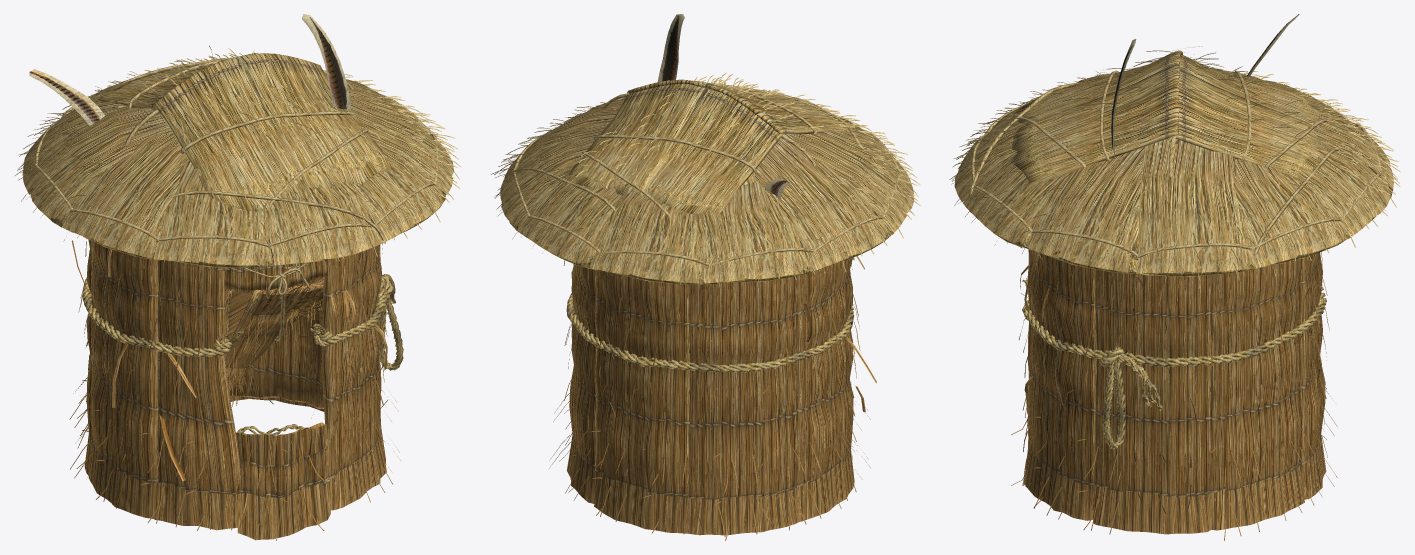
Rendered from haystack.glb.
3 views of the same model, side by side, from view 1: azimuth 30°, elevation 25°; view 2: azimuth 150°, elevation 25°; view 3: azimuth 270°, elevation 25° (orthographic). The views are drawn at different scales.
Parts seen in each view (by area): view 1: Nojeokgari_LOD0_pasted__lambert4_0.1200, Nojeokgari_LOD0_pasted__lambert4_0.1410, Nojeokgari_LOD0_pasted__lambert3_0.1710, Nojeokgari_LOD0_pasted__lambert4_0.084, Nojeokgari_LOD0_pasted__lambert3_0.1700, Nojeokgari_LOD0_pasted__lambert3_0.1720, Nojeokgari_LOD0_pasted__lambert4_0.1702, Nojeokgari_LOD0_pasted__lambert3_0.1704, Nojeokgari_LOD0_pasted__lambert3_0.1722, Nojeokgari_LOD0_pasted__lambert3_0.1724, Nojeokgari_LOD0_pasted__lambert3_0.1723, Nojeokgari_LOD0_pasted__lambert3_0.1721 (+32 smaller); view 2: Nojeokgari_LOD0_pasted__lambert4_0.1199, Nojeokgari_LOD0_pasted__lambert4_0.570, Nojeokgari_LOD0_pasted__lambert4_0.1410, Nojeokgari_LOD0_pasted__lambert3_0.1718, Nojeokgari_LOD0_pasted__lambert3_0.1702, Nojeokgari_LOD0_pasted__lambert3_0.1712, Nojeokgari_LOD0_pasted__lambert3_0.1704, Nojeokgari_LOD0_pasted__lambert4_0.1701, Nojeokgari_LOD0_pasted__lambert3_0.1714, Nojeokgari_LOD0_pasted__lambert4_0.095, Nojeokgari_LOD0_pasted__lambert3_0.1705, Nojeokgari_LOD0_pasted__lambert4_0.086 (+17 smaller); view 3: Nojeokgari_LOD0_pasted__lambert4_0.1139, Nojeokgari_LOD0_pasted__lambert4_0.1701, Nojeokgari_LOD0_pasted__lambert4_0.084, Nojeokgari_LOD0_pasted__lambert3_0.1700, Nojeokgari_LOD0_pasted__lambert3_0.1702, Nojeokgari_LOD0_pasted__lambert3_0.1698, Nojeokgari_LOD0_pasted__lambert3_0.1708, Nojeokgari_LOD0_pasted__lambert3_0.1699, Nojeokgari_LOD0_pasted__lambert4_0.1142, Nojeokgari_LOD0_pasted__lambert4_0.570, Nojeokgari_LOD0_pasted__lambert3_0.1706, Nojeokgari_LOD0_pasted__lambert4_0.087 (+17 smaller).
Part boxes in pixels (<box>): Nojeokgari_LOD0_pasted__lambert4_0.1200: <box>157,260,240,494</box>; Nojeokgari_LOD0_pasted__lambert4_0.1410: <box>90,241,158,483</box>; Nojeokgari_LOD0_pasted__lambert3_0.1710: <box>154,57,301,211</box>; Nojeokgari_LOD0_pasted__lambert4_0.084: <box>321,244,381,479</box>; Nojeokgari_LOD0_pasted__lambert3_0.1700: <box>237,53,391,189</box>; Nojeokgari_LOD0_pasted__lambert3_0.1720: <box>90,138,189,258</box>; Nojeokgari_LOD0_pasted__lambert4_0.1702: <box>229,300,323,407</box>; Nojeokgari_LOD0_pasted__lambert3_0.1704: <box>30,114,173,225</box>; Nojeokgari_LOD0_pasted__lambert3_0.1722: <box>198,195,272,265</box>; Nojeokgari_LOD0_pasted__lambert3_0.1724: <box>296,179,383,259</box>; Nojeokgari_LOD0_pasted__lambert3_0.1723: <box>153,161,208,262</box>; Nojeokgari_LOD0_pasted__lambert3_0.1721: <box>59,133,175,239</box>; Nojeokgari_LOD0_pasted__lambert4_0.1199: <box>688,276,798,499</box>; Nojeokgari_LOD0_pasted__lambert4_0.570: <box>595,270,689,497</box>; Nojeokgari_LOD0_pasted__lambert4_0.1410: <box>796,258,853,486</box>; Nojeokgari_LOD0_pasted__lambert3_0.1718: <box>643,88,782,214</box>; Nojeokgari_LOD0_pasted__lambert3_0.1702: <box>568,84,704,195</box>; Nojeokgari_LOD0_pasted__lambert3_0.1712: <box>732,180,811,279</box>; Nojeokgari_LOD0_pasted__lambert3_0.1704: <box>770,133,887,256</box>; Nojeokgari_LOD0_pasted__lambert4_0.1701: <box>569,264,596,469</box>; Nojeokgari_LOD0_pasted__lambert3_0.1714: <box>628,199,700,283</box>; Nojeokgari_LOD0_pasted__lambert4_0.095: <box>688,487,799,535</box>; Nojeokgari_LOD0_pasted__lambert3_0.1705: <box>750,152,848,270</box>; Nojeokgari_LOD0_pasted__lambert4_0.086: <box>594,470,688,533</box>; Nojeokgari_LOD0_pasted__lambert4_0.1139: <box>1094,269,1210,496</box>; Nojeokgari_LOD0_pasted__lambert4_0.1701: <box>1210,258,1302,492</box>; Nojeokgari_LOD0_pasted__lambert4_0.084: <box>1027,249,1096,510</box>; Nojeokgari_LOD0_pasted__lambert3_0.1700: <box>1010,63,1179,182</box>; Nojeokgari_LOD0_pasted__lambert3_0.1702: <box>1175,68,1321,177</box>; Nojeokgari_LOD0_pasted__lambert3_0.1698: <box>1182,142,1255,272</box>; Nojeokgari_LOD0_pasted__lambert3_0.1708: <box>1059,137,1179,272</box>; Nojeokgari_LOD0_pasted__lambert3_0.1699: <box>1136,137,1186,273</box>; Nojeokgari_LOD0_pasted__lambert4_0.1142: <box>1093,485,1211,534</box>; Nojeokgari_LOD0_pasted__lambert4_0.570: <box>1300,252,1325,464</box>; Nojeokgari_LOD0_pasted__lambert3_0.1706: <box>1246,160,1346,255</box>; Nojeokgari_LOD0_pasted__lambert4_0.087: <box>1211,464,1304,530</box>.
Size of the model in its own units: 1.87 by 2.1 by 1.81.
Materials: 2 (2 with a texture image).
